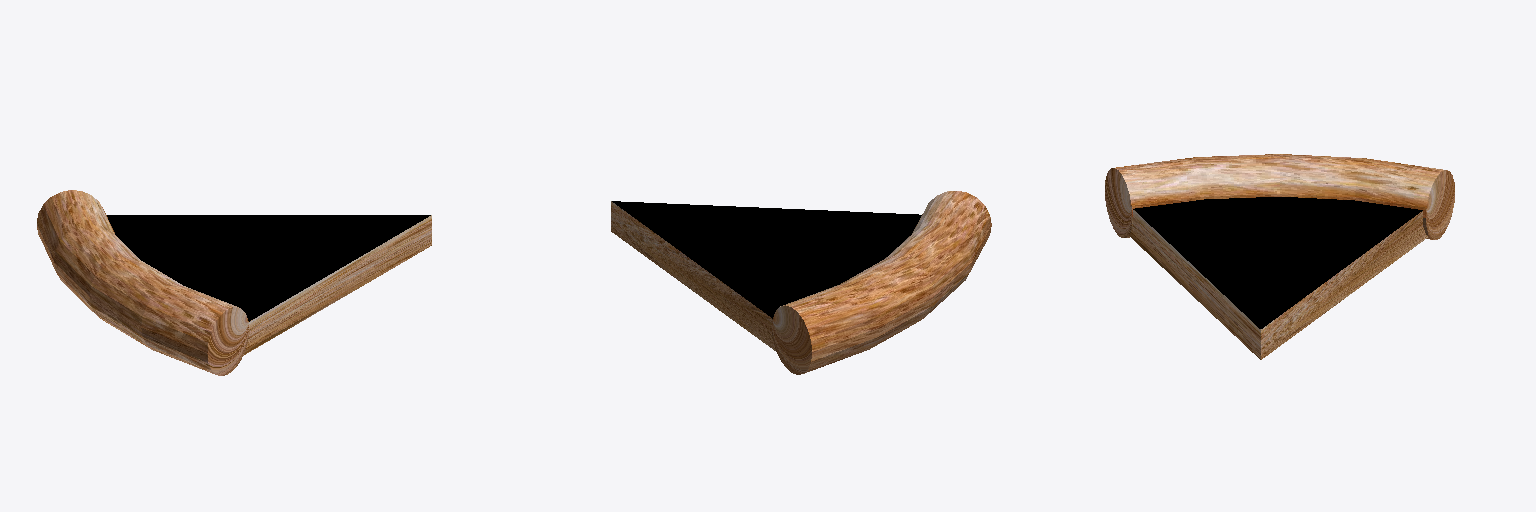
3 renders of one model, left to right at view 1: azimuth 30°, elevation 25°; view 2: azimuth 150°, elevation 25°; view 3: azimuth 270°, elevation 25°, orthographic.
Parts seen in each view (by area): view 1: RebanadaPizza:pTorus3; view 2: RebanadaPizza:pTorus3; view 3: RebanadaPizza:pTorus3.
Part boxes in pixels (left/top/right/bottom): RebanadaPizza:pTorus3: left=37, top=190, right=431, bottom=375; RebanadaPizza:pTorus3: left=611, top=191, right=991, bottom=374; RebanadaPizza:pTorus3: left=1105, top=154, right=1454, bottom=359.
Bounding box in the file's own units: 1.03 × 0.1944 × 0.9421.
3 materials, 1 textured.